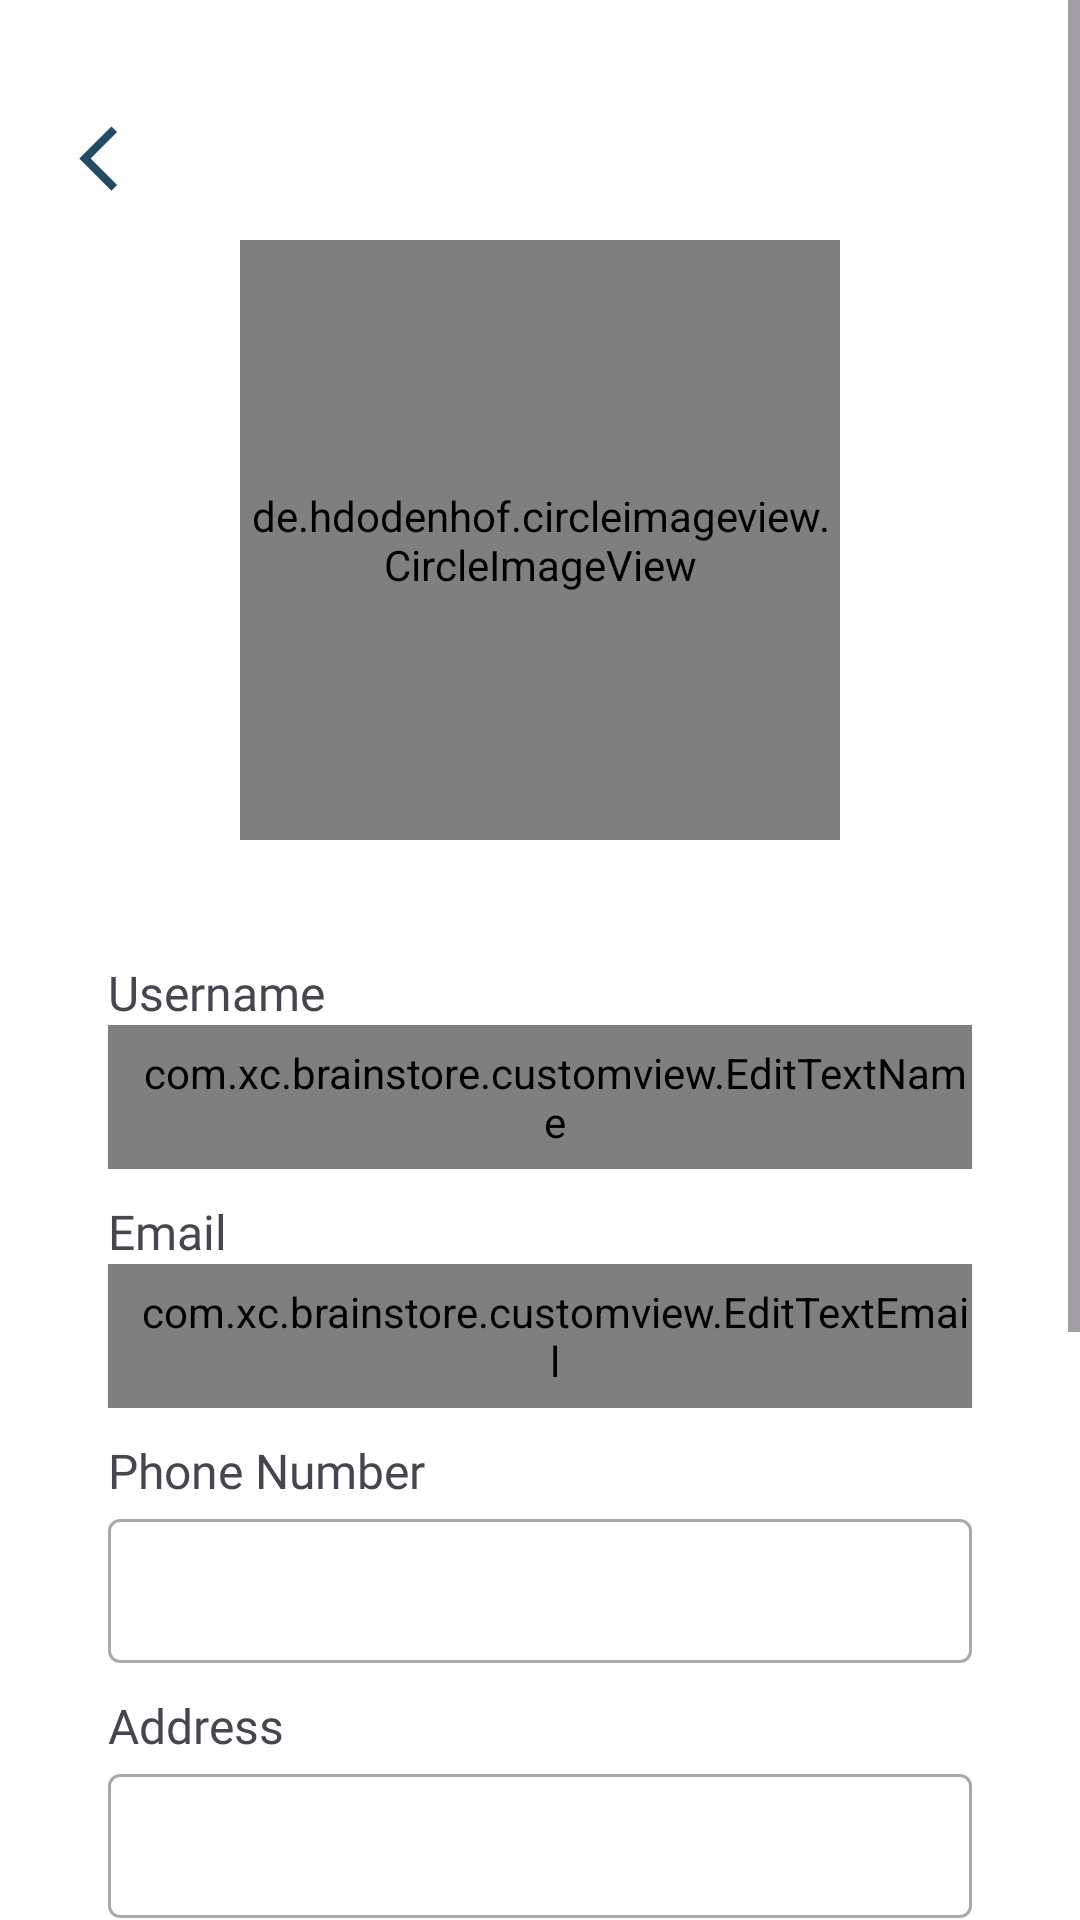

Screen size 1080 × 1920. Icon name, then its center in pixels as (x=x, y=y):
Previous Icon: (x=98, y=158)
